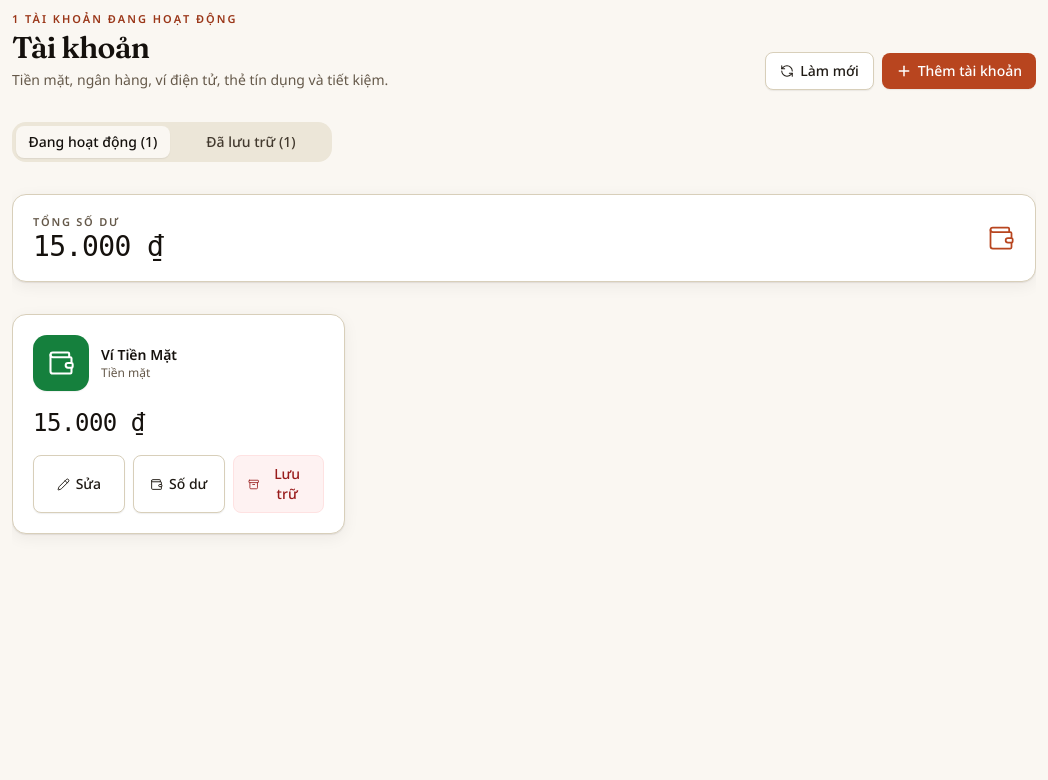
Test: AccountsPage (F22: Archive, Restore, Financial Warnings, Dirty Guard) › switches to archived tab and shows unarchive button
The image size is (1048, 780).
Expected: the text "Ví Tiền Mặt" is shown, [101, 345, 177, 365]
// Switch to archived tab
Click the button "Đã lưu trữ (1)" at (251, 142), box [174, 126, 328, 158]
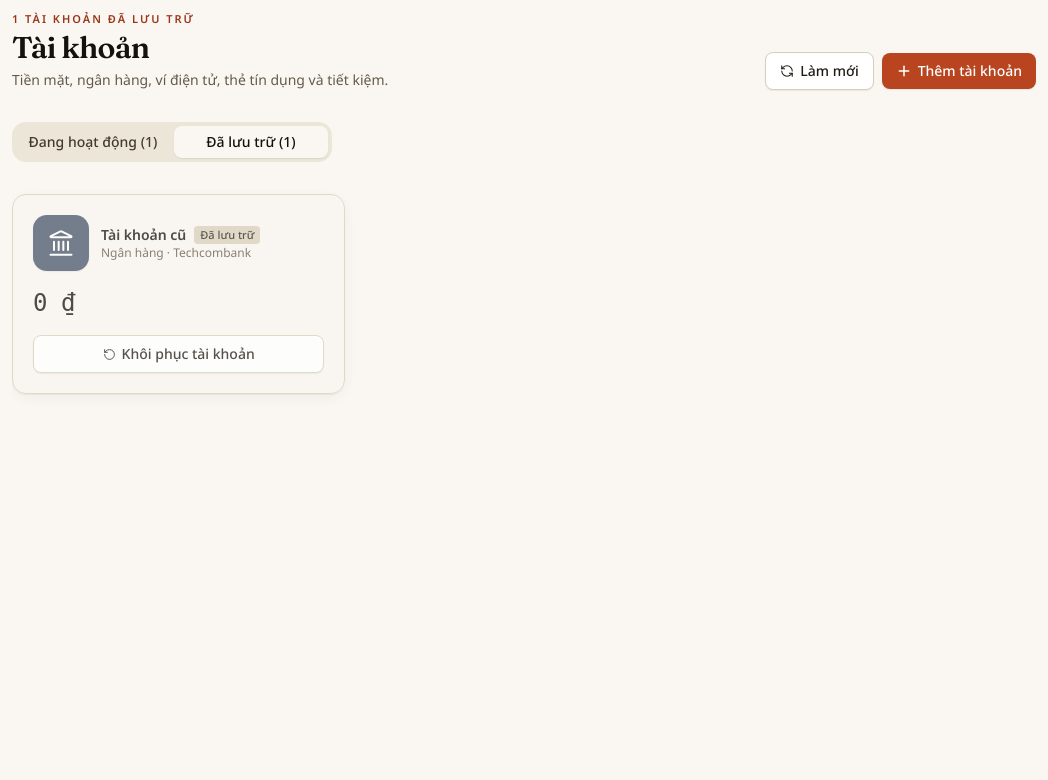
Result: the text "Tài khoản cũ" is shown at [101, 225, 186, 245]
Result: the button "Khôi phục tài khoản" is shown at [33, 335, 324, 373]
Result: the text "Ví Tiền Mặt" is gone
